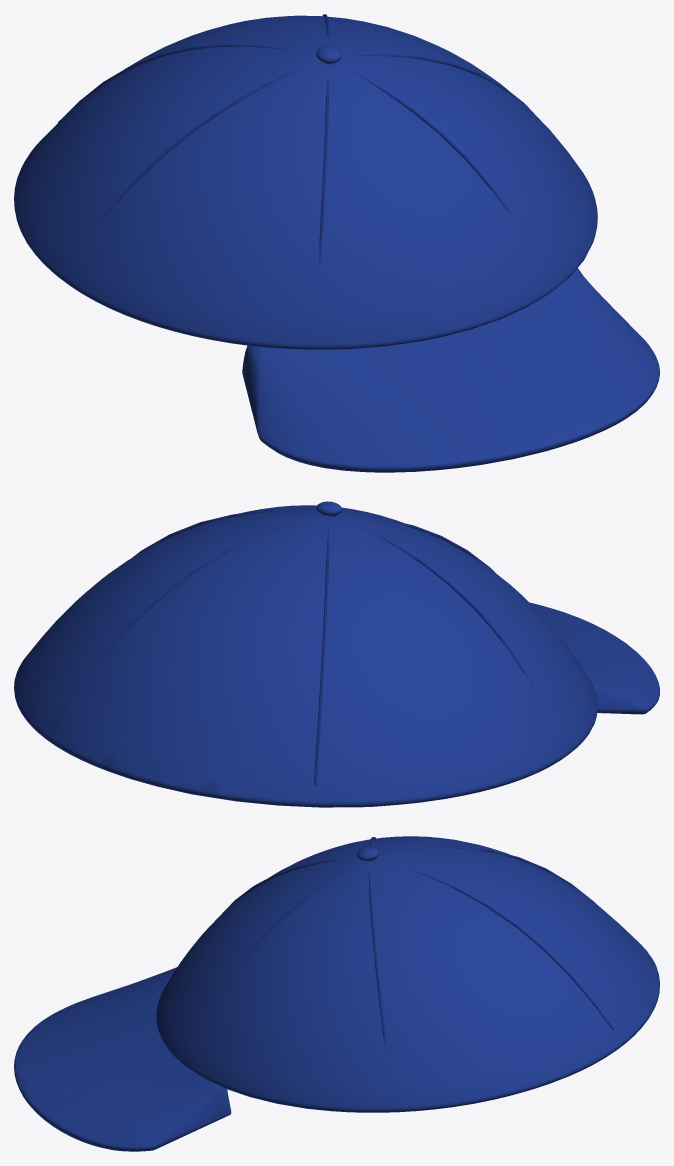
The model's file is wear-cap.glb.
3 views of the same model, one above another, from view 1: azimuth 30°, elevation 25°; view 2: azimuth 150°, elevation 25°; view 3: azimuth 270°, elevation 25° (orthographic). The views are drawn at different scales.
Visible parts, largest first — view 1: cap; view 2: cap; view 3: cap.
Boxes of the visible parts, left/top/right/bottom form: cap: left=14, top=14, right=659, bottom=472; cap: left=14, top=501, right=659, bottom=807; cap: left=14, top=836, right=659, bottom=1151.
Bounding box in the file's own units: 1.57 × 0.7765 × 2.01.
1 material, 1 textured.
